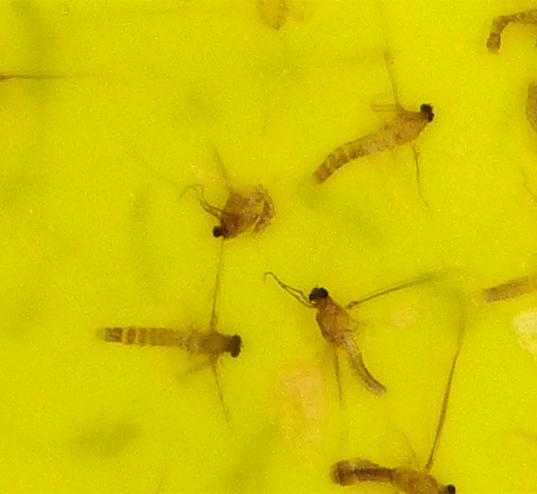Ephemeroptera: (277, 280, 386, 394), (311, 100, 437, 186), (100, 308, 245, 375), (199, 184, 276, 243)
